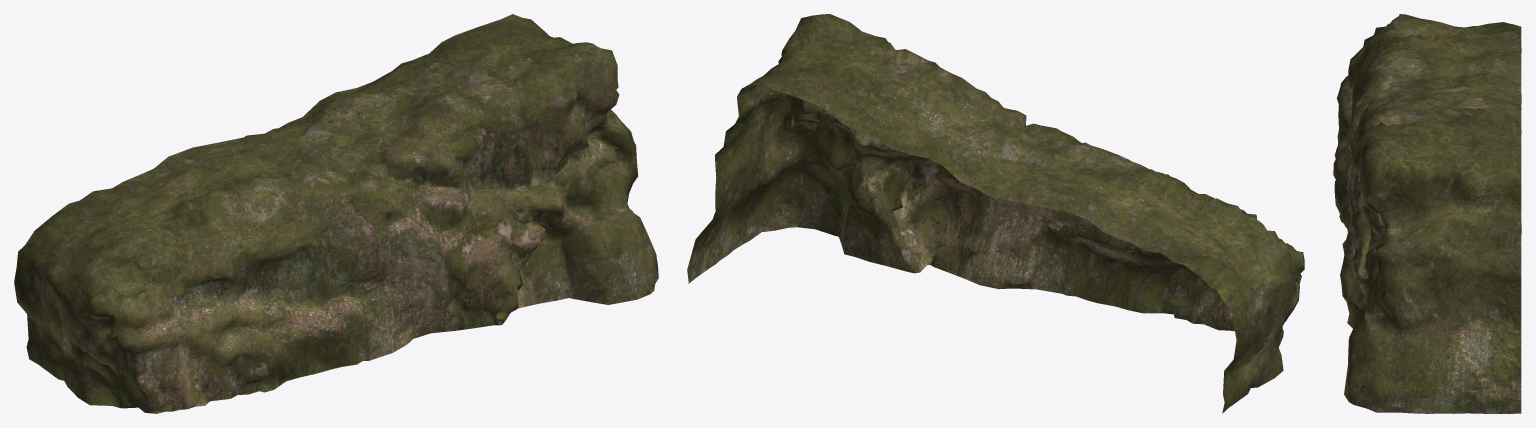
File: nordic_forest_cliff_large_xibsff1_mid.glb
3 views of the same model, side by side, from view 1: azimuth 30°, elevation 25°; view 2: azimuth 150°, elevation 25°; view 3: azimuth 270°, elevation 25° (orthographic). The views are drawn at different scales.
Visible parts, largest first — view 1: xibsff1_LOD0_TIER2_000; view 2: xibsff1_LOD0_TIER2_000; view 3: xibsff1_LOD0_TIER2_000.
Part boxes in pixels (x1=…): xibsff1_LOD0_TIER2_000: x1=14, y1=14, x2=658, y2=413; xibsff1_LOD0_TIER2_000: x1=687, y1=14, x2=1304, y2=413; xibsff1_LOD0_TIER2_000: x1=1333, y1=14, x2=1521, y2=413.
Size of the model in its own units: 13.35 by 5.46 by 3.87.
1 material, 1 textured.
